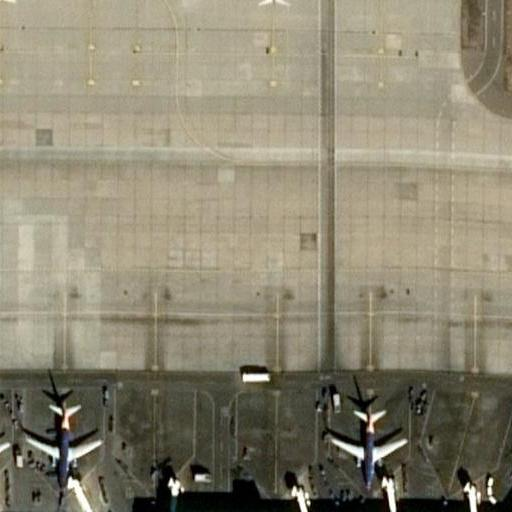Aircraft: (22, 392, 102, 490), (321, 398, 407, 485), (503, 391, 512, 494), (0, 398, 9, 492)
